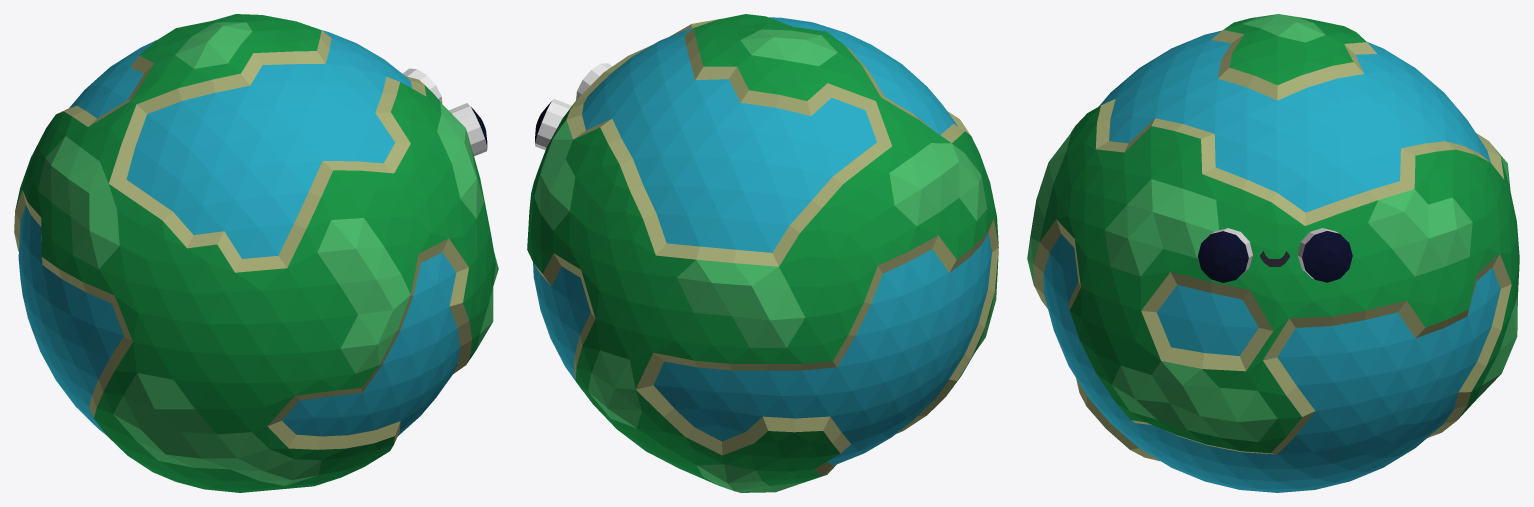
The model's file is planet1.glb.
The picture shows the model from 3 angles, left to right: view 1: azimuth 30°, elevation 25°; view 2: azimuth 150°, elevation 25°; view 3: azimuth 270°, elevation 25°; orthographic projection.
Parts seen in each view (by area): view 1: Icosphere, Cylinder; view 2: Icosphere, Cylinder; view 3: Icosphere, Cylinder.
Part boxes in pixels (<box>): Icosphere: <box>14,14,498,492</box>; Cylinder: <box>402,68,487,156</box>; Icosphere: <box>527,14,998,492</box>; Cylinder: <box>535,63,612,150</box>; Icosphere: <box>1027,14,1519,492</box>; Cylinder: <box>1197,228,1352,282</box>.
Bounding box in the file's own units: 6.11 × 6.24 × 6.29.
